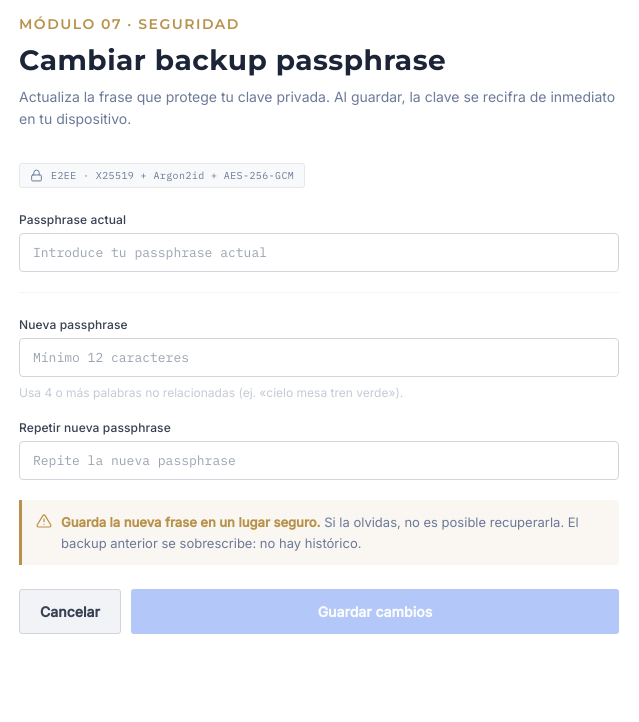
SET-SEC-01 · guardar › un fallo al guardar avisa de que la frase anterior sigue valiendo
Type "tornillo ámbar cometa jilguero 42" into the password field labelled "Passphrase actual" at (319, 252), box [19,233,619,272]
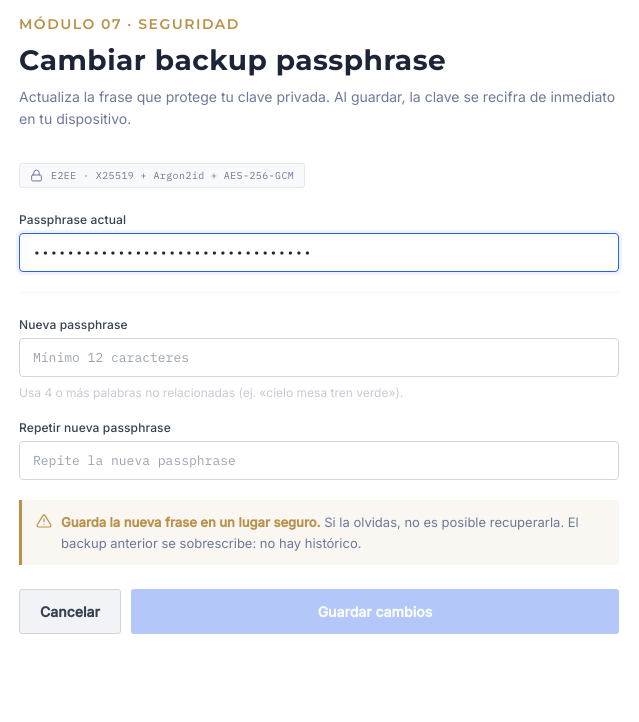
Type "correct-horse-battery-staple-2024" into the password field labelled "Nueva passphrase" at (319, 357), box [19,338,619,377]
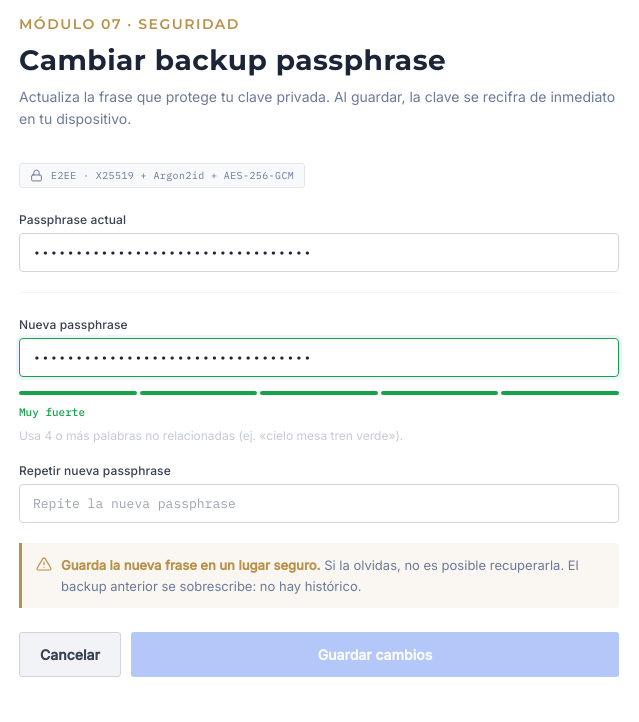
Type "correct-horse-battery-staple-2024" into the password field labelled "Repetir nueva passphrase" at (319, 503), box [19,484,619,523]
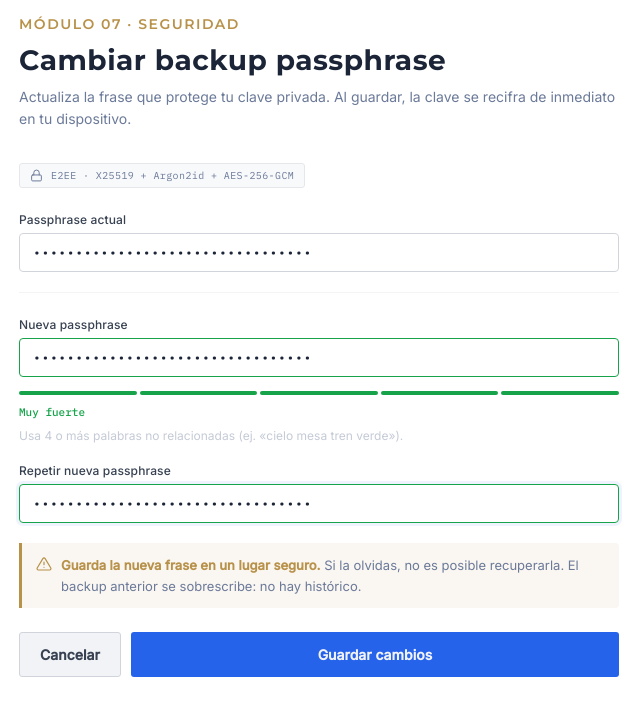
Check: the button "Guardar cambios" is enabled
Click the button "Guardar cambios" at (375, 655), box [131,632,619,677]
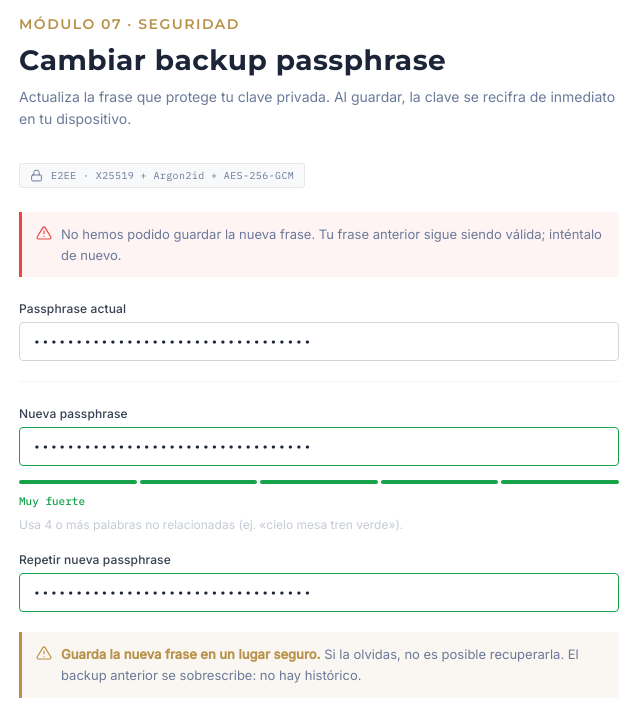
Check: the text "Tu frase anterior sigue siendo válida" is shown, box [61,226,602,263]
